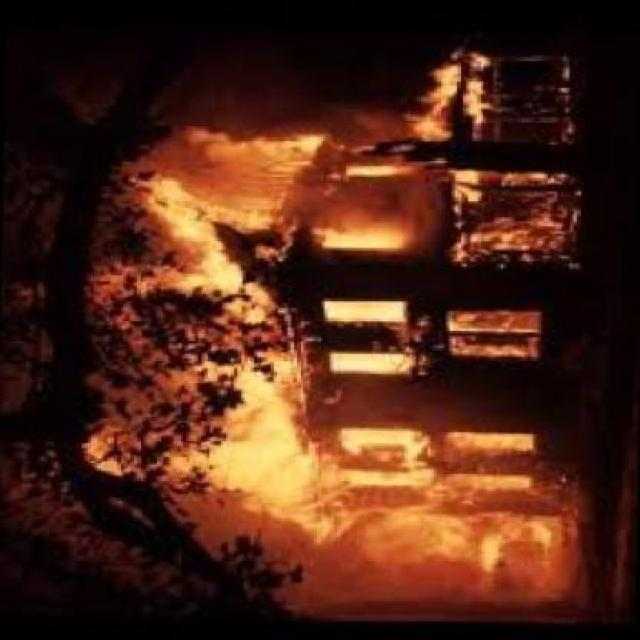Fire: (110, 56, 578, 602)
